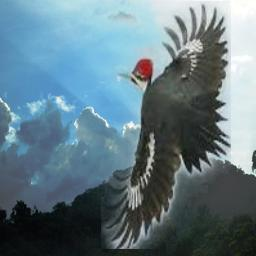Woodpecker: (101, 1, 231, 249)
